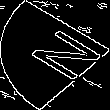N_SE: (10, 23, 100, 87)
